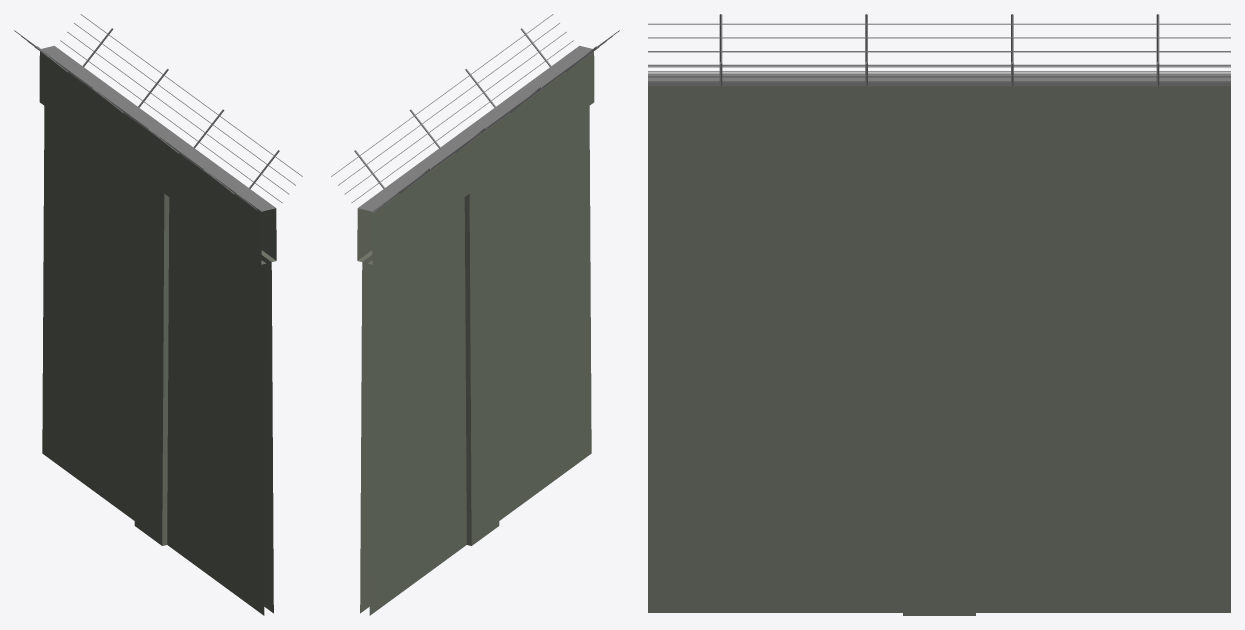
The model's file is Wall_01.fbx.
3 views of the same model, side by side, from view 1: azimuth 30°, elevation 25°; view 2: azimuth 150°, elevation 25°; view 3: azimuth 270°, elevation 25° (orthographic). The views are drawn at different scales.
Visible parts, largest first — view 1: Wall_01; view 2: Wall_01; view 3: Wall_01.
Boxes of the visible parts, bbox=[...] form: Wall_01: bbox=[14, 14, 302, 615]; Wall_01: bbox=[331, 14, 619, 615]; Wall_01: bbox=[648, 14, 1230, 615].
Size of the model in its own units: 79.96 by 433 by 400.
1 material, 1 textured.
